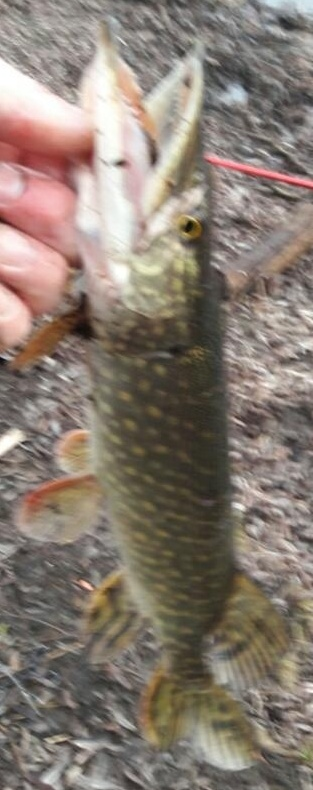Esox lucius: (20, 20, 293, 770)
